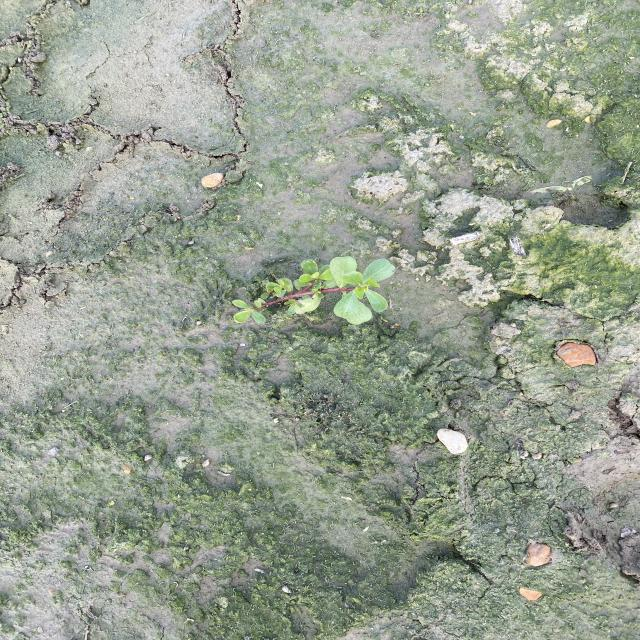Purslane: (230, 254, 398, 326)
